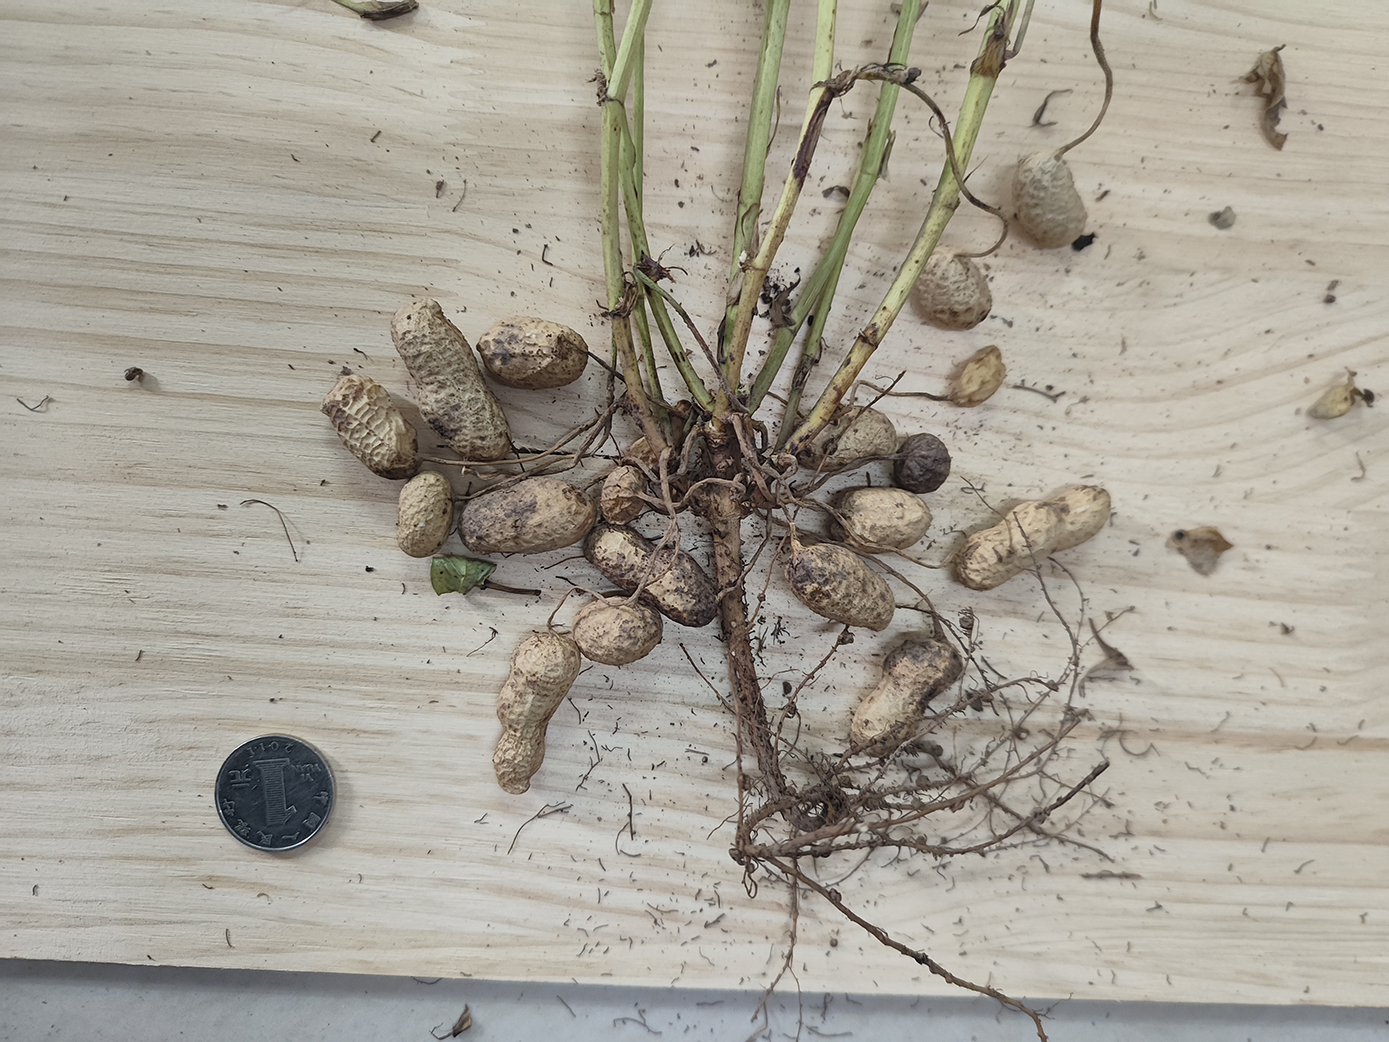h: (390, 296, 512, 462), (954, 485, 1112, 591), (491, 632, 581, 795), (583, 523, 716, 626), (850, 637, 964, 746), (458, 476, 597, 555), (320, 372, 418, 479), (784, 542, 894, 632), (476, 315, 589, 389), (1012, 151, 1088, 248), (831, 486, 933, 555), (916, 244, 992, 332), (572, 597, 664, 665), (395, 468, 454, 558), (950, 344, 1007, 407), (601, 464, 648, 526)
l: (893, 432, 951, 494)
